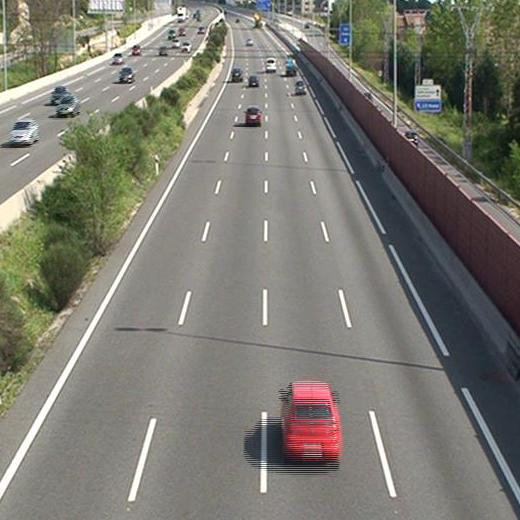car: (279, 382, 341, 462), (243, 106, 263, 127), (293, 79, 305, 95), (231, 67, 243, 82), (247, 73, 259, 87)
small-truck: (285, 58, 297, 76)
van: (265, 58, 276, 74)
